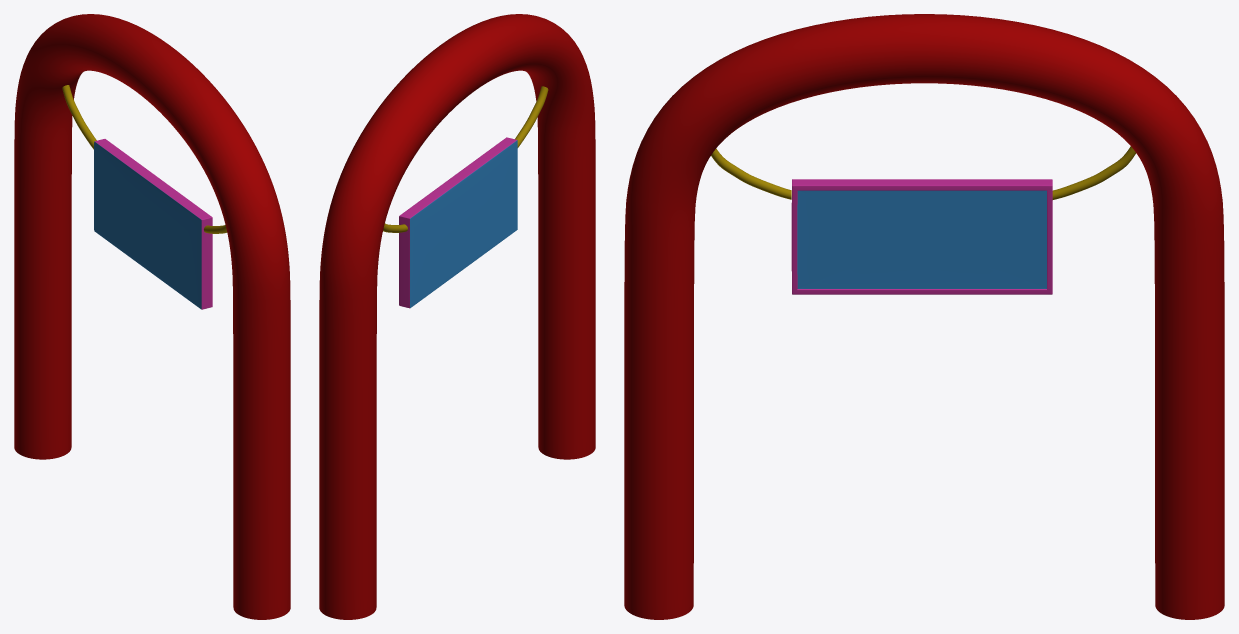
The model's file is Welcum_Post_CoB.fbx.
The picture shows the model from 3 angles, left to right: view 1: azimuth 30°, elevation 25°; view 2: azimuth 150°, elevation 25°; view 3: azimuth 270°, elevation 25°; orthographic projection. The views are drawn at different scales.
Parts seen in each view (by area): view 1: Welcome_Post; view 2: Welcome_Post; view 3: Welcome_Post.
Part boxes in pixels (x1,y1,x2,y2): Welcome_Post: (14, 14, 290, 619); Welcome_Post: (319, 14, 595, 619); Welcome_Post: (624, 14, 1224, 619).
Size of the model in its own units: 1.97 by 18.34 by 16.97.
